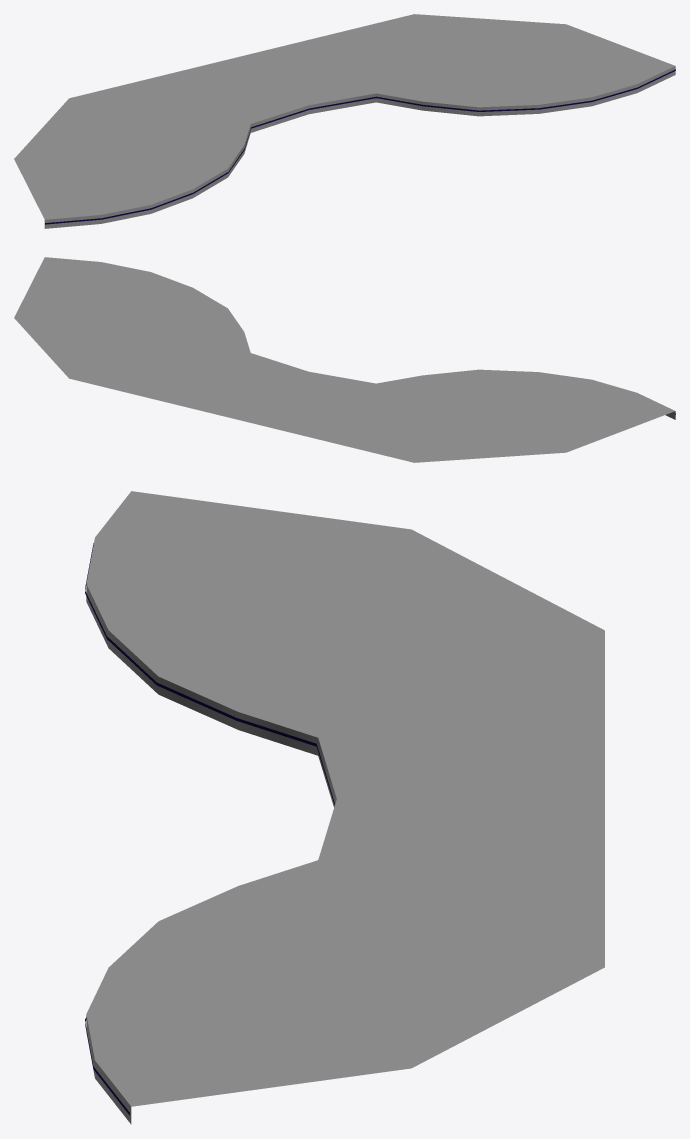
Rendered from Stage_004.FBX.
3 views of the same model, one above another, from view 1: azimuth 30°, elevation 25°; view 2: azimuth 150°, elevation 25°; view 3: azimuth 270°, elevation 25° (orthographic). The views are drawn at different scales.
Parts seen in each view (by area): view 1: Stage_004a, Stage_004b; view 2: Stage_004a; view 3: Stage_004a, Stage_004b.
Boxes of the visible parts, bbox=[...] form: Stage_004a: bbox=[14, 14, 675, 228]; Stage_004b: bbox=[45, 69, 675, 224]; Stage_004a: bbox=[14, 257, 675, 462]; Stage_004a: bbox=[86, 491, 604, 1124]; Stage_004b: bbox=[85, 543, 334, 1115].
Size of the model in its own units: 612 by 8.39 by 219.
